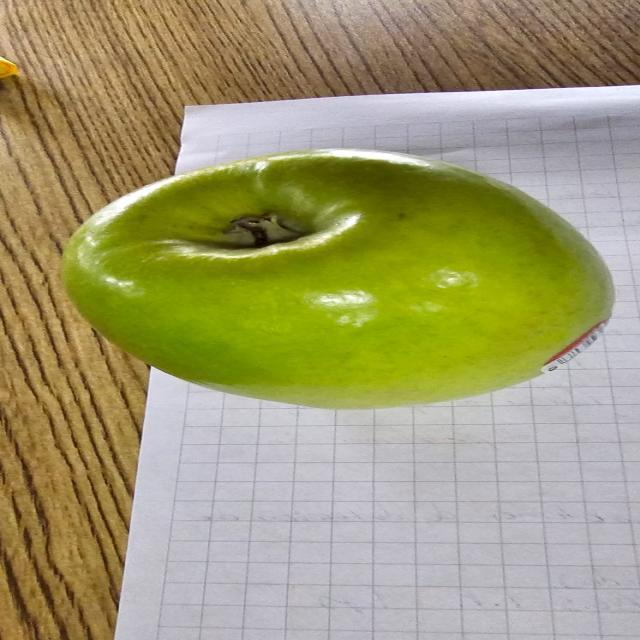Apel Granny Smith: (58, 142, 622, 411)
